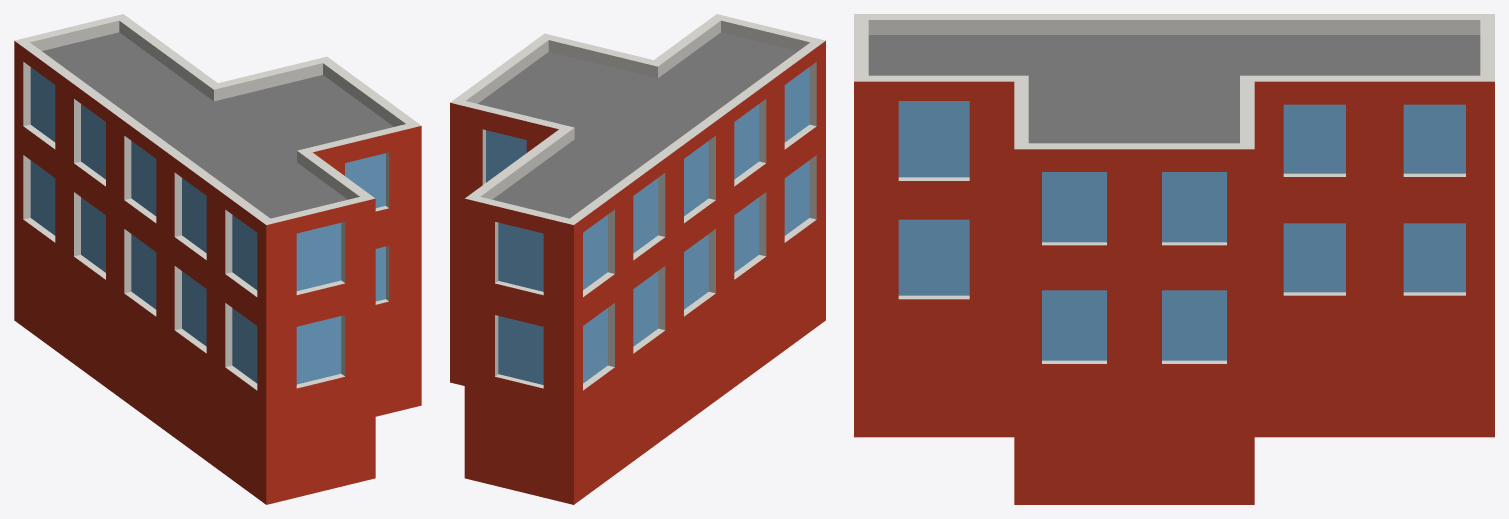
The model's file is Buidling7.fbx.
The picture shows the model from 3 angles, left to right: view 1: azimuth 30°, elevation 25°; view 2: azimuth 150°, elevation 25°; view 3: azimuth 270°, elevation 25°; orthographic projection. The views are drawn at different scales.
Parts seen in each view (by area): view 1: City.006; view 2: City.006; view 3: City.006.
Part boxes in pixels (bbox=[...]): City.006: bbox=[14, 14, 421, 504]; City.006: bbox=[450, 14, 825, 504]; City.006: bbox=[854, 14, 1494, 504].
Bounding box in the file's own units: 1461 × 1789 × 2923.
